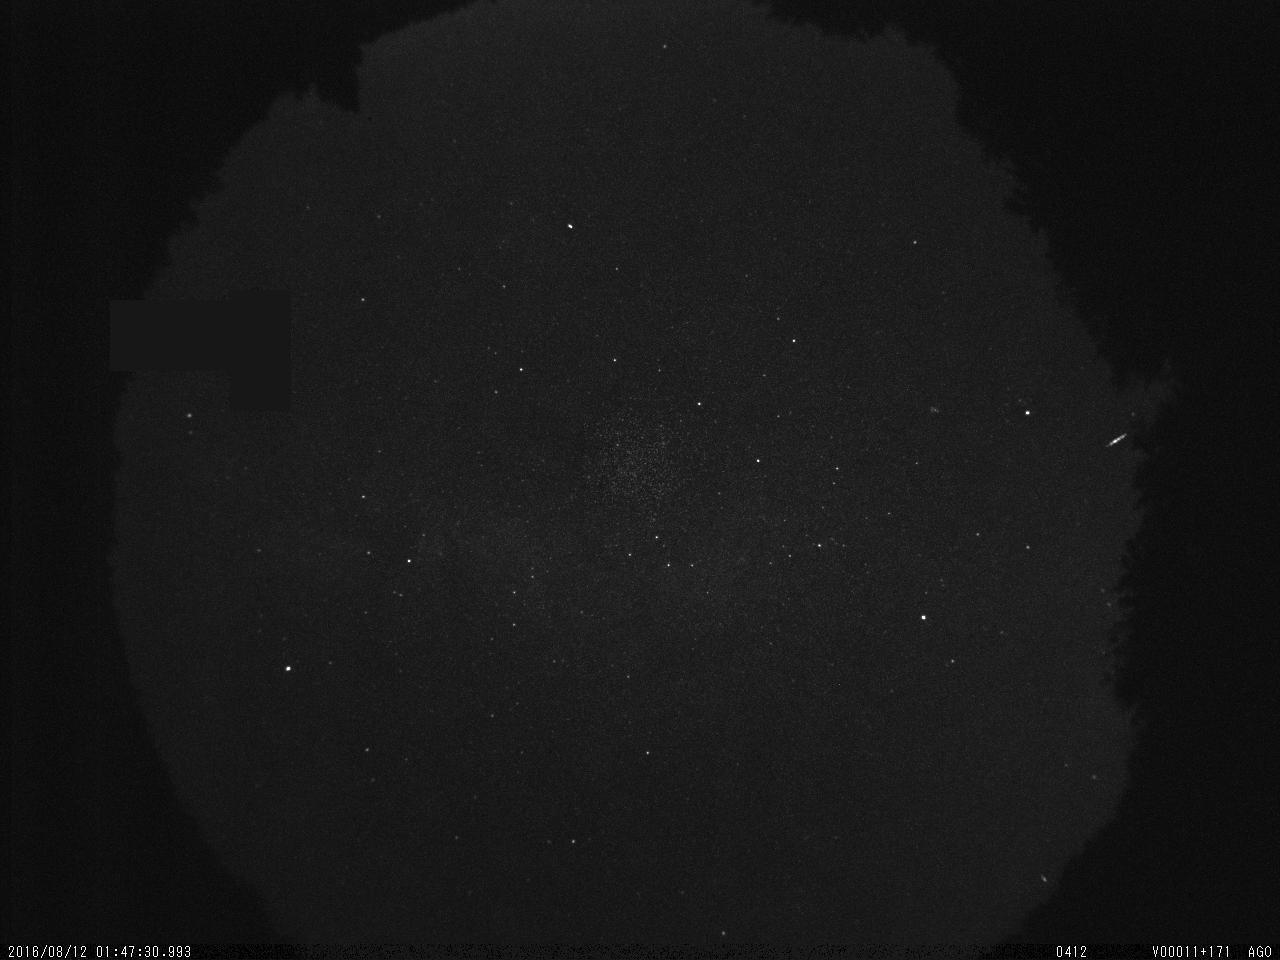meteor: (1103, 425, 1136, 452)
